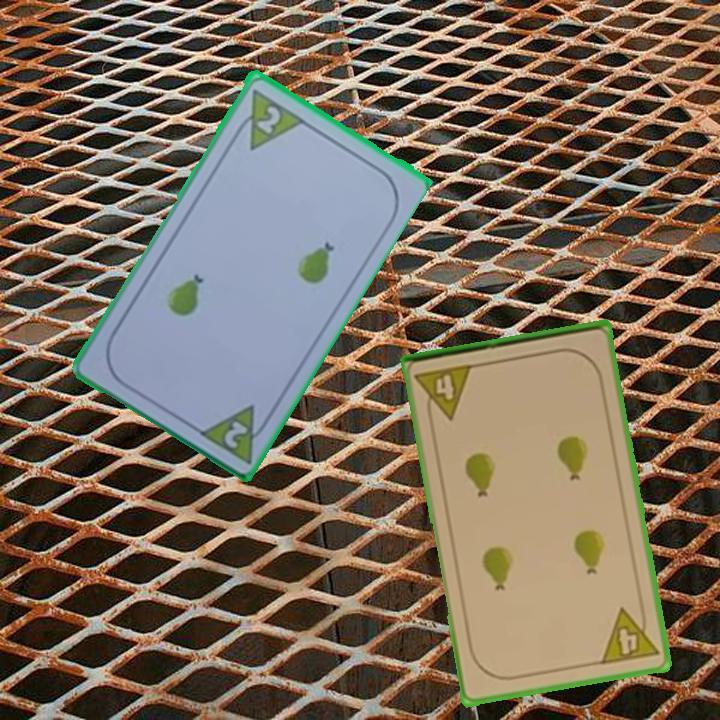2p: (253, 101, 284, 136), (220, 416, 251, 451)
4p: (597, 601, 661, 668), (412, 360, 476, 425)
